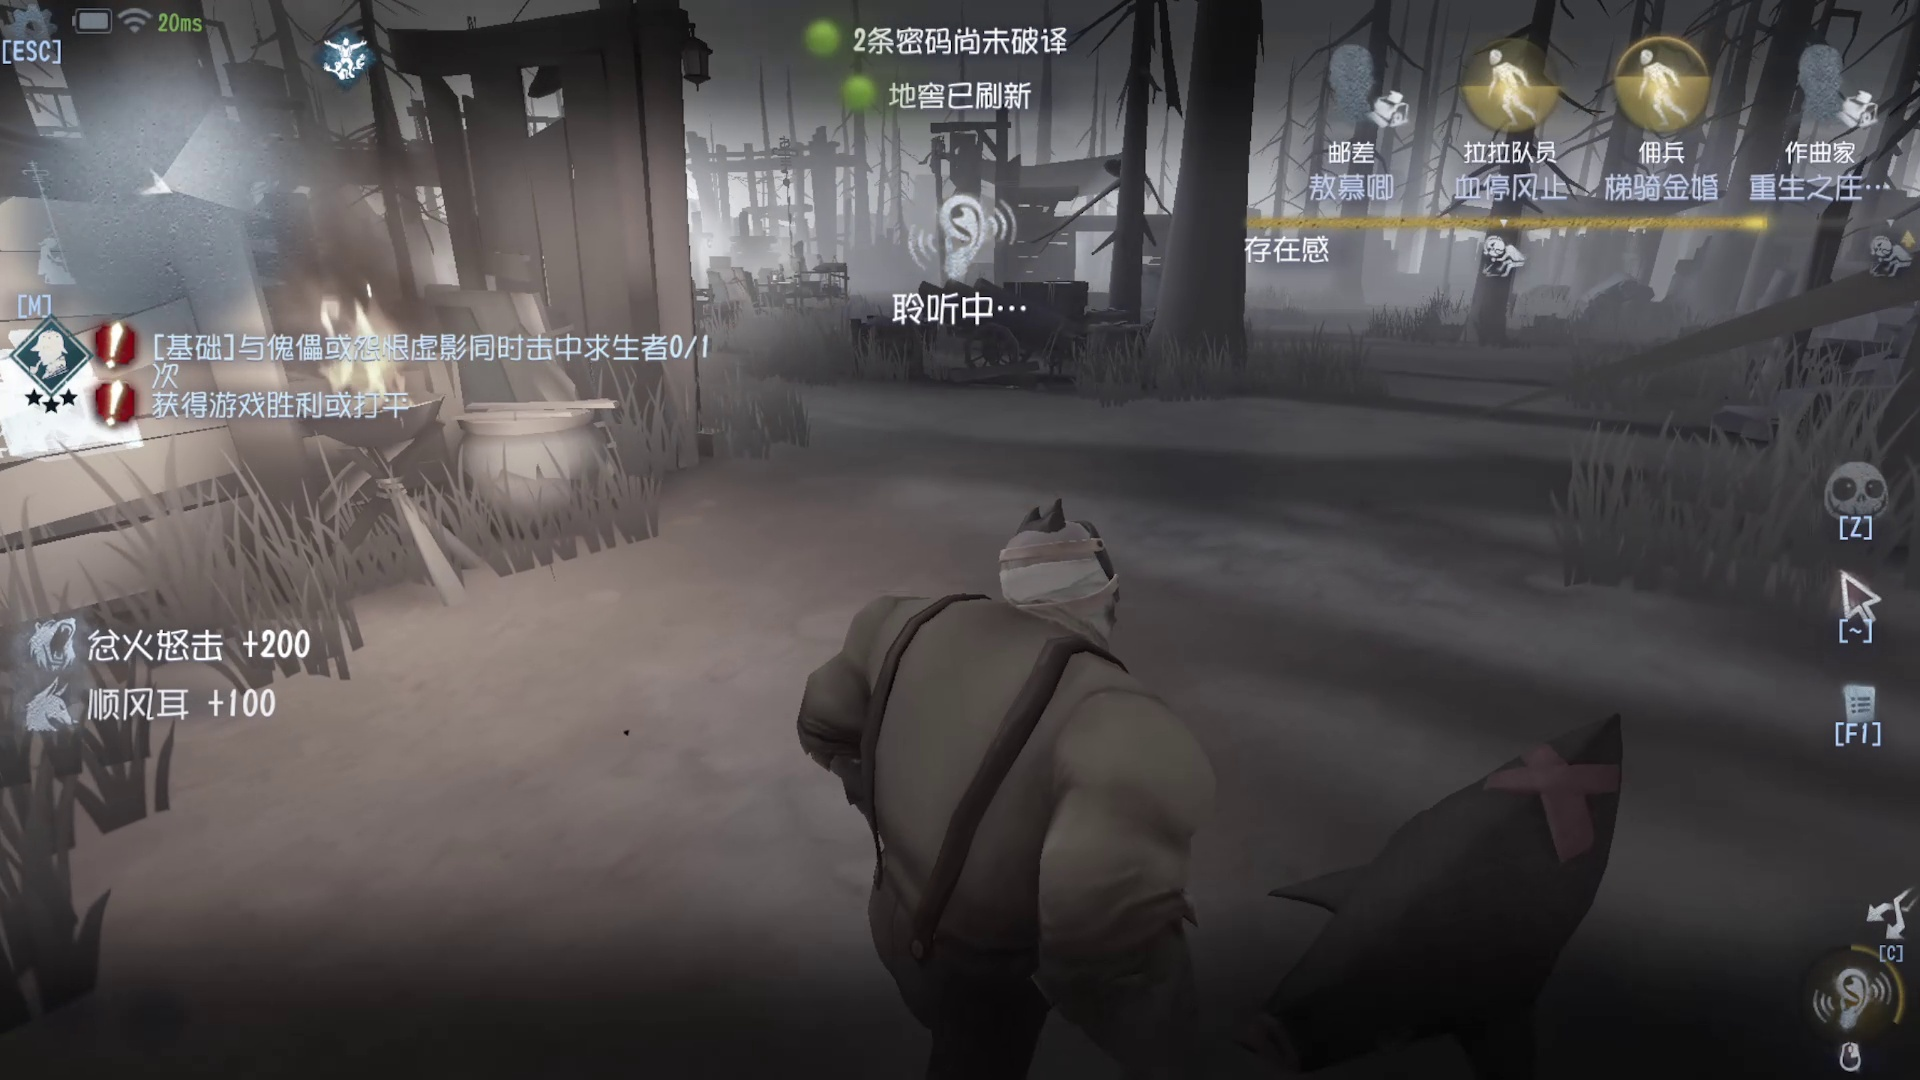木板: (404, 264, 632, 451), (699, 252, 778, 324)
